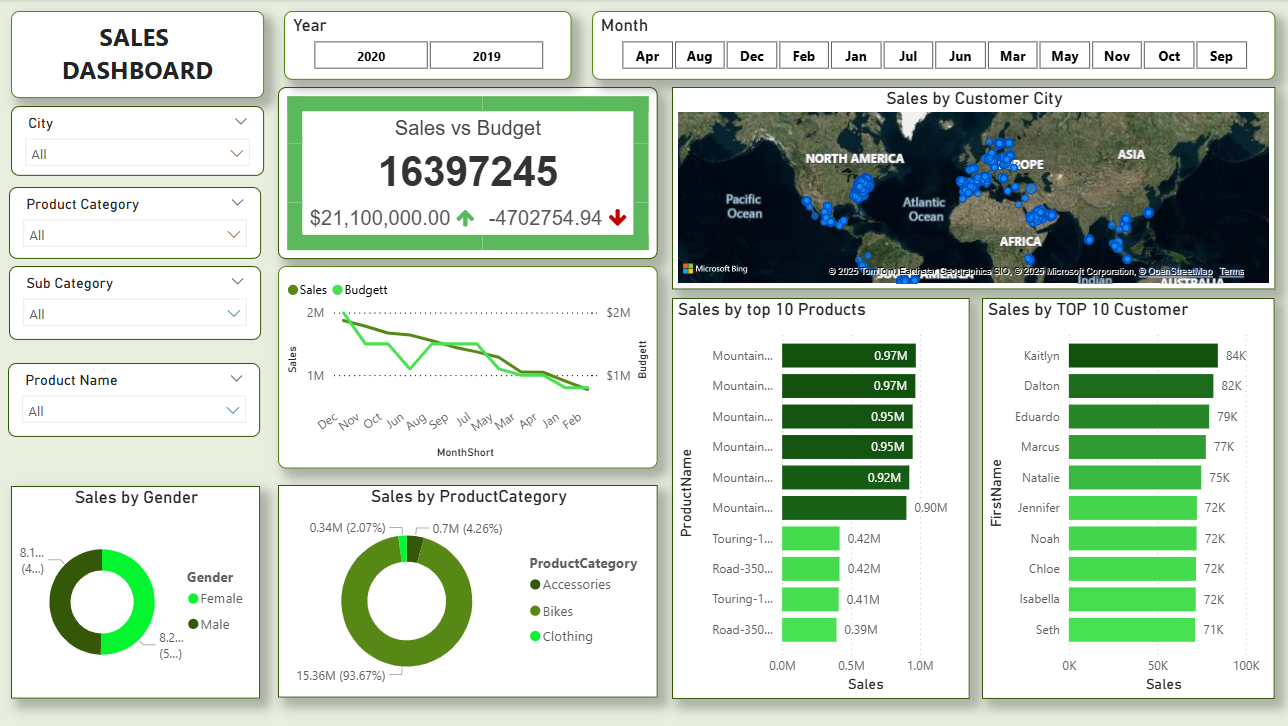

Layout of this report page (visuals, bound fields, positions):
{"tool":"powerbi","page":{"name":"Sales","canvas":[1280,720],"ordinal":0},"visuals":[{"type":"textbox","box":[12.8,11.9,249.9,85.9],"z":0},{"type":"BBED0A4D4D8D44CE93CF2DAFADEE466C","fields":{"actual":["FactInternetSales.Sales"],"target1":["SalesBudget.Budgett"],"target2":["SalesBudget.sale- budget"]},"box":[276.5,86.9,375.3,169.9],"z":1000},{"type":"slicer","title":"Year","fields":{"Values":["DimDate.Year"]},"box":[282.5,11.9,284.4,68.1],"z":2000},{"type":"slicer","title":"Month","fields":{"Values":["DimDate.MonthShort"]},"box":[586.7,11.9,674.6,68.1],"z":3000},{"type":"lineChart","title":"Sales and Budget by Month","fields":{"Category":["Dimcalender.MonthShort"],"Y":["FactInternetSales.Sales"],"Y2":["FactBudget.Budgett"]},"box":[276.5,263.7,375.3,199.5],"z":4000},{"type":"map","title":"Sales by Customer City","fields":{"Category":["DimCustomers.CustomerKey"],"Size":["FactInternetSales.Sales"]},"box":[665.7,86.9,595.6,200.5],"z":5000},{"type":"barChart","title":"Sales by top 10 Products","fields":{"Category":["DimProducts.ProductName"],"Y":["FactInternetSales.Sales"]},"box":[665.7,295.3,294.3,396],"z":6000},{"type":"barChart","title":"Sales by TOP 10 Customer","fields":{"Category":["DimCustomers.FirstName"],"Y":["FactInternetSales.Sales"]},"box":[971.9,295.3,289.4,396],"z":7000},{"type":"donutChart","fields":{"Y":["FactInternetSales.Sales"],"Series":["DimProducts.ProductCategory"]},"box":[276.5,480,375.3,210.4],"z":8000},{"type":"donutChart","fields":{"Y":["FactInternetSales.Sales"],"Series":["DimCustomers.Gender"]},"box":[12.8,481,245.9,210.4],"z":9000},{"type":"slicer","fields":{"Values":["DimCustomers.CustomerCity"]},"box":[12.8,105.7,249.9,69.1],"z":10000},{"type":"slicer","fields":{"Values":["DimProducts.ProductCategory"]},"box":[10.9,185.7,248.9,71.1],"z":11000},{"type":"slicer","fields":{"Values":["DimProducts.SubCategory"]},"box":[10.9,263.7,248.9,73.1],"z":12000},{"type":"slicer","fields":{"Values":["DimProducts.ProductName"]},"box":[9.9,359.5,248.9,73.1],"z":13000}]}

Visuals, with their boxes in screenshot pixels (x1, y1, x2, y2), scaled from the page's 1280x720 canvas onto the 1288x726 screenshot:
textbox: 13 12 264 99
BBED0A4D4D8D44CE93CF2DAFADEE466C - FactInternetSales.Sales x SalesBudget.Budgett: 278 88 656 259
"Year" slicer: 284 12 570 81
"Month" slicer: 590 12 1269 81
"Sales and Budget by Month" lineChart: 278 266 656 467
"Sales by Customer City" map: 670 88 1269 290
"Sales by top 10 Products" barChart: 670 298 966 697
"Sales by TOP 10 Customer" barChart: 978 298 1269 697
donutChart - FactInternetSales.Sales x DimProducts.ProductCategory: 278 484 656 696
donutChart - FactInternetSales.Sales x DimCustomers.Gender: 13 485 260 697
slicer - DimCustomers.CustomerCity: 13 107 264 176
slicer - DimProducts.ProductCategory: 11 187 261 259
slicer - DimProducts.SubCategory: 11 266 261 340
slicer - DimProducts.ProductName: 10 362 260 436
